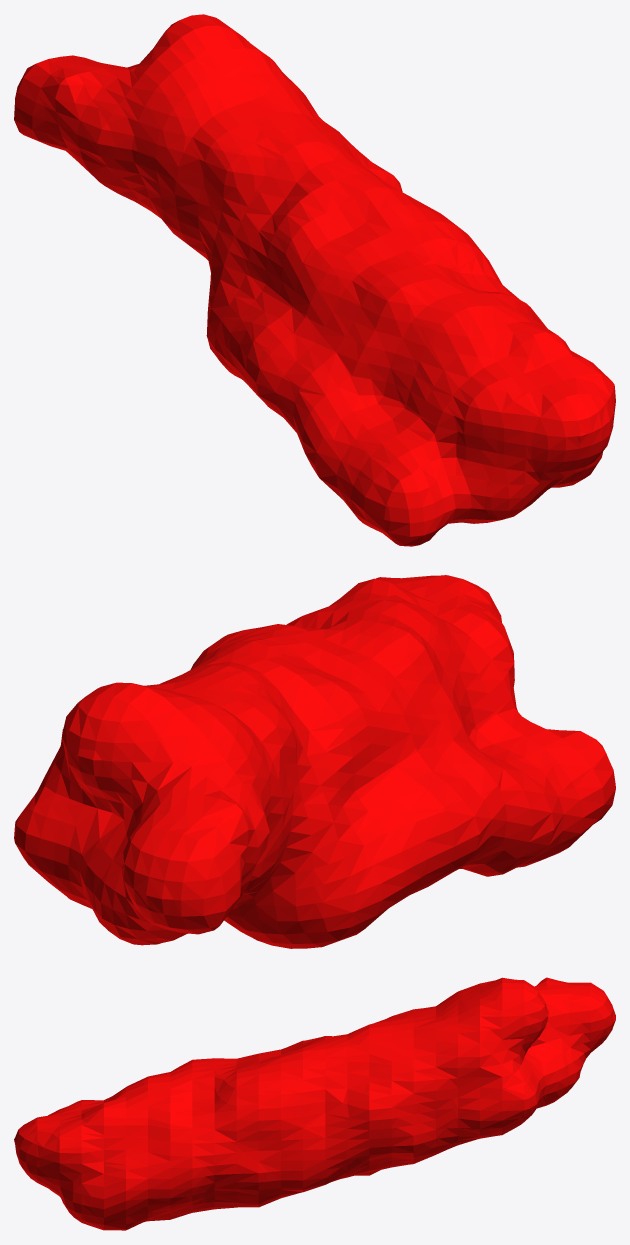
Rendered from Vesicle_associated_membrane_pr_coarse.dae.
The picture shows the model from 3 angles, top to bottom: view 1: azimuth 30°, elevation 25°; view 2: azimuth 150°, elevation 25°; view 3: azimuth 270°, elevation 25°; orthographic projection. The views are drawn at different scales.
Visible parts, largest first — view 1: Vesicle_associated_membrane_pr; view 2: Vesicle_associated_membrane_pr; view 3: Vesicle_associated_membrane_pr.
Part boxes in pixels (<box>): Vesicle_associated_membrane_pr: <box>14,14,615,546</box>; Vesicle_associated_membrane_pr: <box>14,575,615,948</box>; Vesicle_associated_membrane_pr: <box>14,977,615,1230</box>.
Size of the model in its own units: 43.71 by 47.29 by 113.
